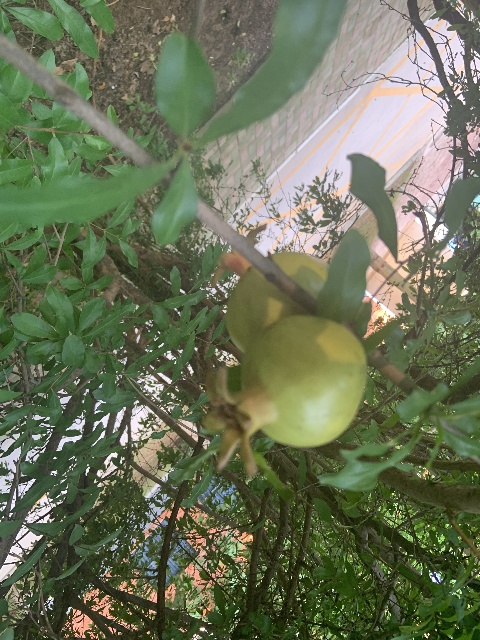mid-growth: (202, 315, 367, 484), (210, 223, 329, 351)
